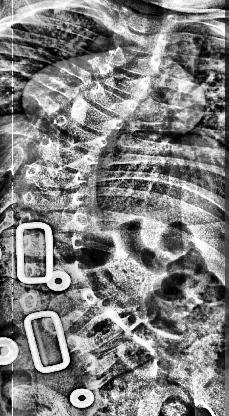Vertebrae: (82, 336, 158, 390), (64, 309, 128, 361), (44, 288, 100, 336), (20, 280, 90, 318), (37, 133, 100, 175), (50, 114, 109, 156), (68, 95, 124, 139), (94, 57, 150, 100), (84, 80, 139, 122), (23, 160, 94, 192), (16, 206, 92, 234), (118, 5, 178, 38), (16, 230, 86, 258), (20, 260, 90, 288), (114, 25, 174, 57), (106, 43, 164, 76), (22, 184, 90, 212)
